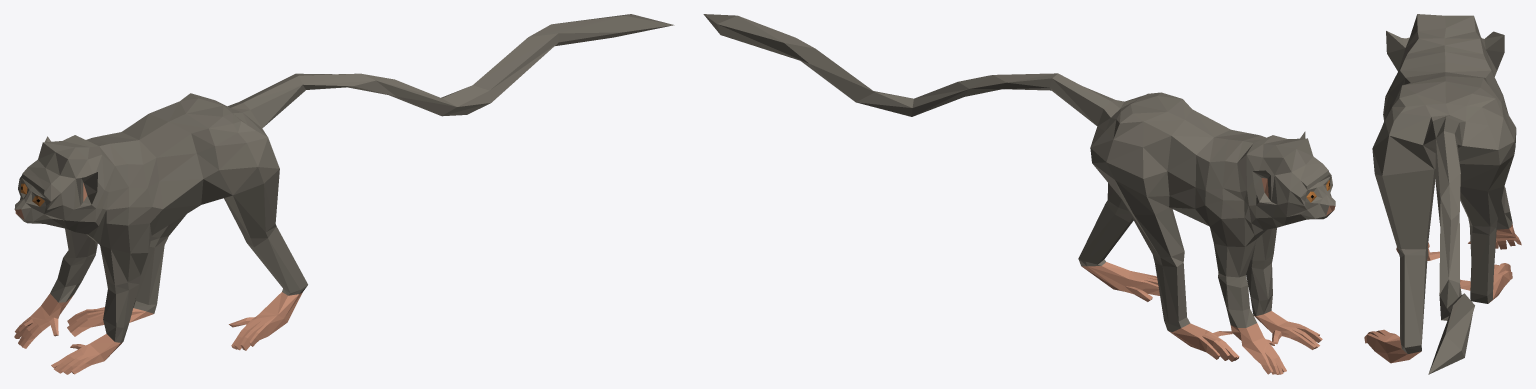
Rendered from archicebus.glb.
The picture shows the model from 3 angles, left to right: view 1: azimuth 30°, elevation 25°; view 2: azimuth 150°, elevation 25°; view 3: azimuth 270°, elevation 25°; orthographic projection. The views are drawn at different scales.
Bounding box in the file's own units: 0.2319 × 0.0787 × 0.0426.
